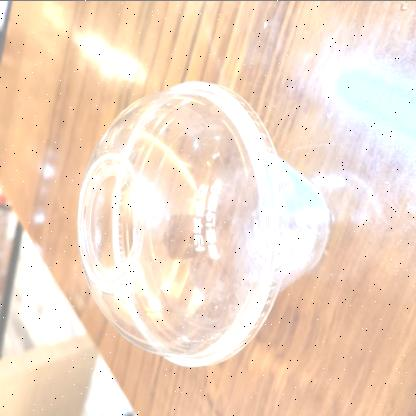Others: (70, 77, 286, 377)
